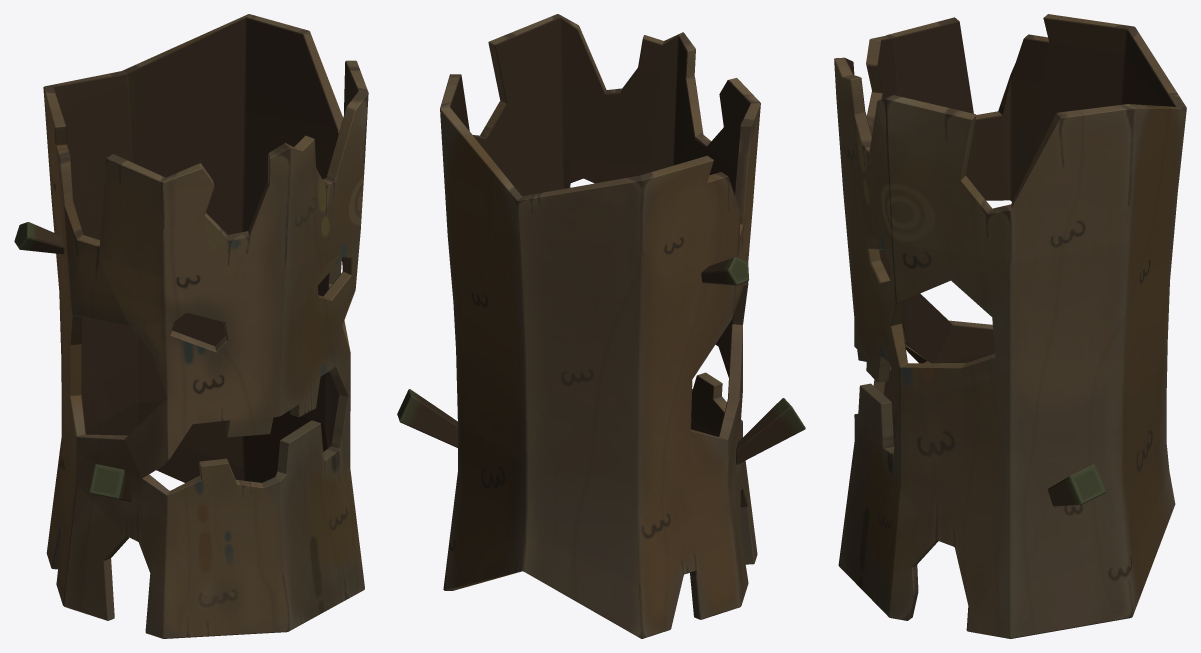
Rendered from Old_Tree.fbx.
3 renders of one model, left to right at view 1: azimuth 30°, elevation 25°; view 2: azimuth 150°, elevation 25°; view 3: azimuth 270°, elevation 25°, orthographic. The views are drawn at different scales.
Visible parts, largest first — view 1: Old_Tree:Old_Tree_Body, Old_Tree:Old_Tree; view 2: Old_Tree:Old_Tree_Body, Old_Tree:Old_Tree; view 3: Old_Tree:Old_Tree_Body, Old_Tree:Old_Tree.
Part boxes in pixels (x1,y1,x2,y2): Old_Tree:Old_Tree_Body: (43, 14, 368, 638); Old_Tree:Old_Tree: (14, 222, 131, 501); Old_Tree:Old_Tree_Body: (440, 14, 760, 638); Old_Tree:Old_Tree: (397, 257, 805, 464); Old_Tree:Old_Tree_Body: (834, 14, 1186, 638); Old_Tree:Old_Tree: (905, 346, 1106, 506).
Size of the model in its own units: 17.36 by 24.32 by 14.89.
